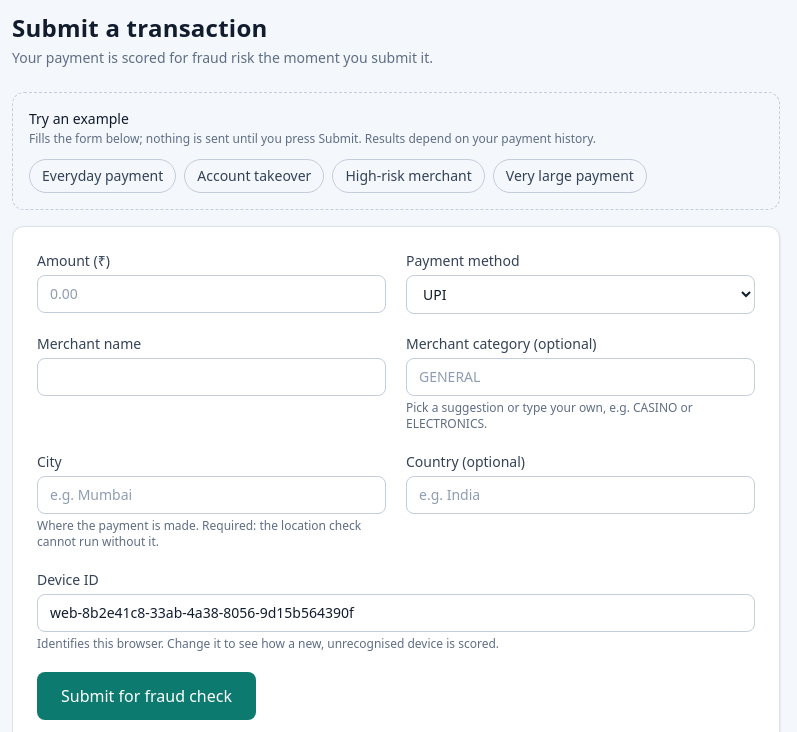
Test: SubmitTransaction: B-01 + C-01 › C-01: a 200 with replayed:true is a success — original result plus the note
This screenshot has width=797, height=732.
Type "1200" into the number field labelled "Amount (₹)".
click(212, 294); type("1200")  # box [37, 275, 386, 313]
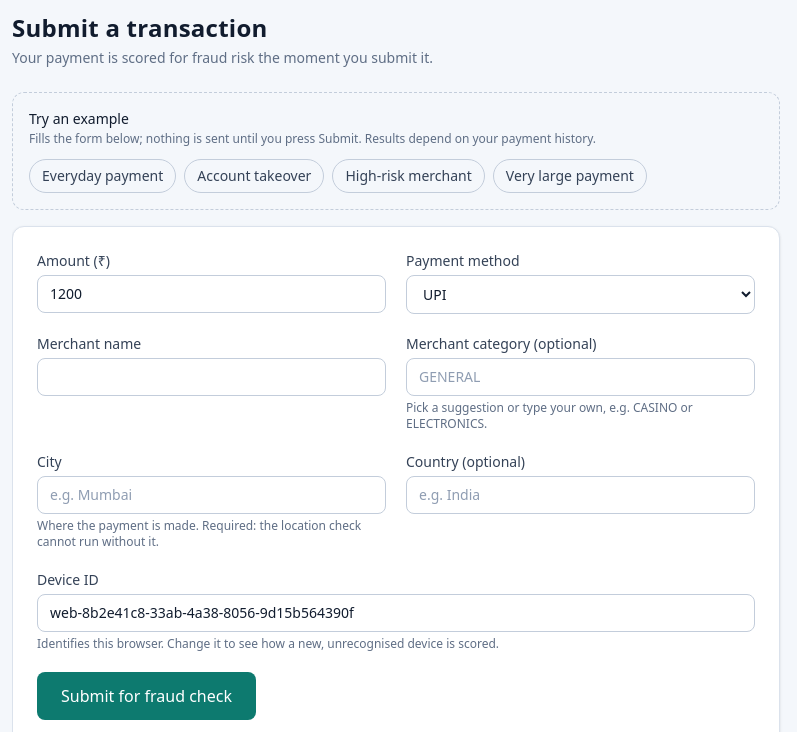
Type "Cafe" into the field labelled "Merchant name".
click(212, 377); type("Cafe")  # box [37, 358, 386, 396]
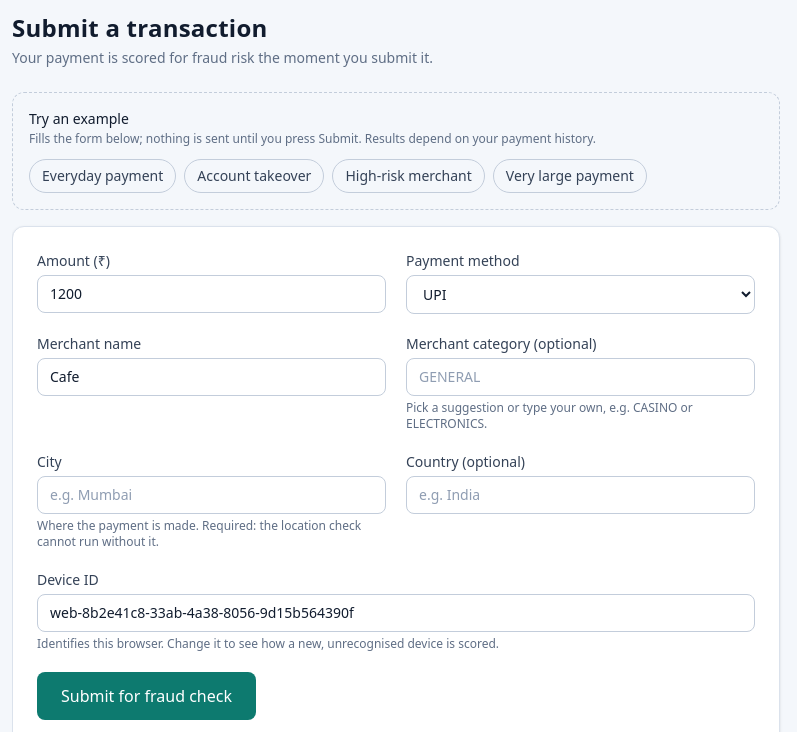
Type "Pune" into the field labelled "City".
click(212, 495); type("Pune")  # box [37, 476, 386, 514]
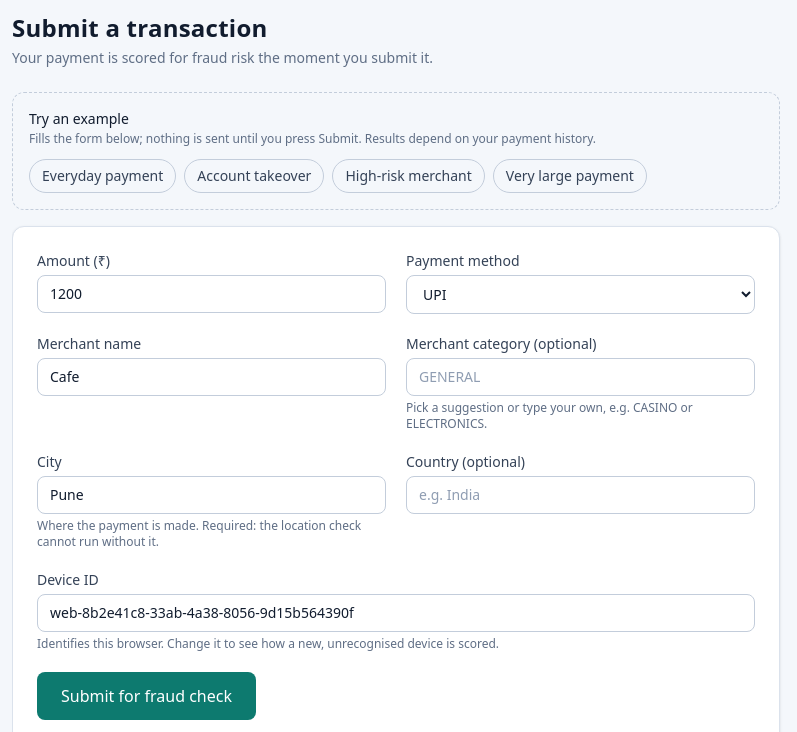
Click the button "Submit for fraud check".
click(146, 696)  # box [37, 672, 256, 720]
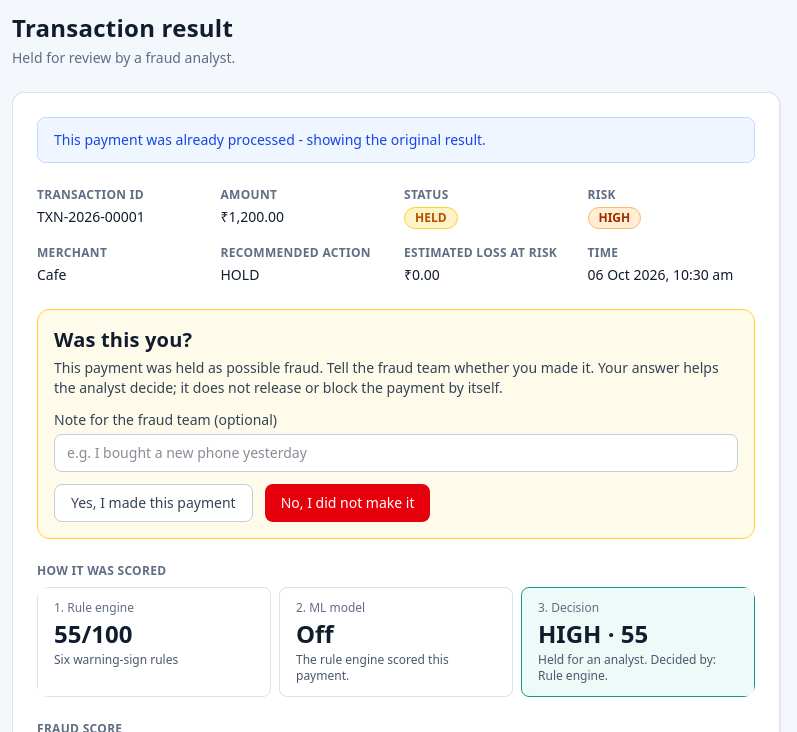
expect the text "TXN-2026-00001" is shown: met, box [37, 207, 145, 226]
expect the text "This payment was already processed - showing the original result." is shown: met, box [37, 117, 755, 163]
